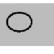no answer: (5, 10, 36, 34)
